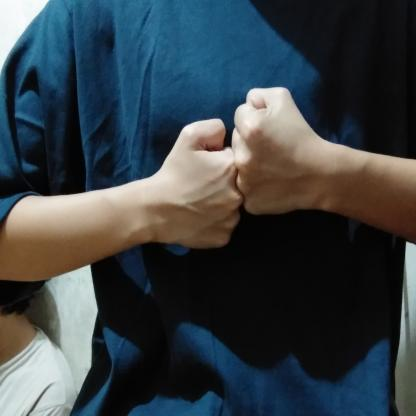brother: (128, 73, 352, 258)
